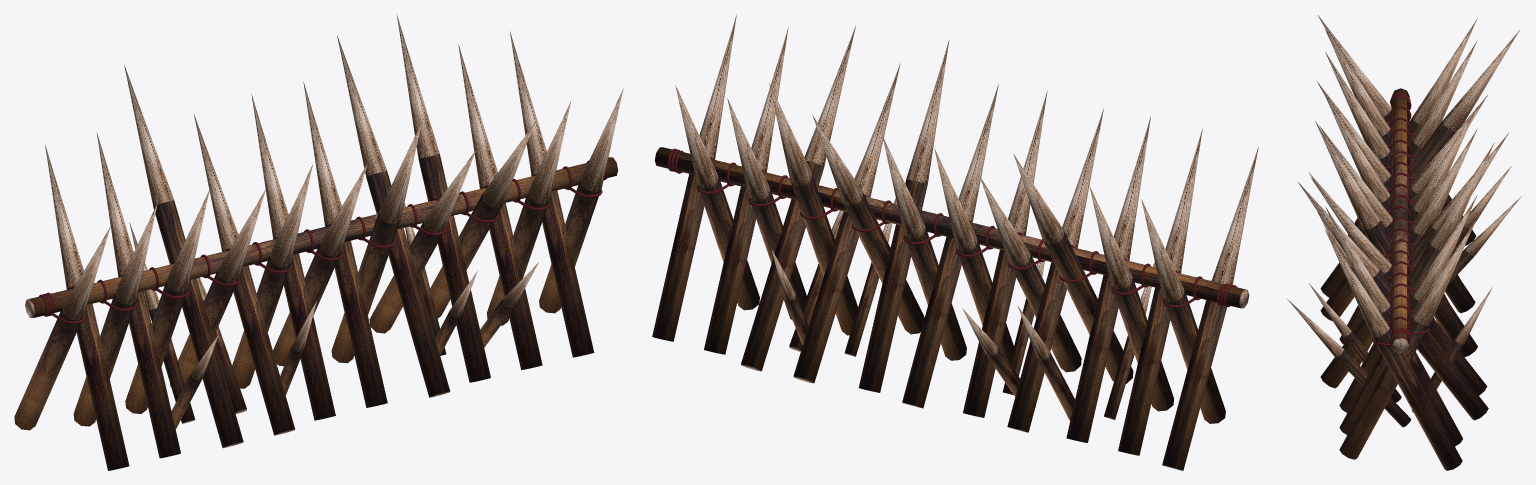
The model's file is Parede de espinhos.fbx.
3 renders of one model, left to right at view 1: azimuth 30°, elevation 25°; view 2: azimuth 150°, elevation 25°; view 3: azimuth 270°, elevation 25°, orthographic. The views are drawn at different scales.
Parts seen in each view (by area): view 1: Parede de espinhos; view 2: Parede de espinhos; view 3: Parede de espinhos.
Part boxes in pixels (x1,y1,x2,y2): Parede de espinhos: (14, 15, 623, 470); Parede de espinhos: (652, 15, 1258, 470); Parede de espinhos: (1287, 15, 1521, 470).
Size of the model in its own units: 16.39 by 8.48 by 6.52.
